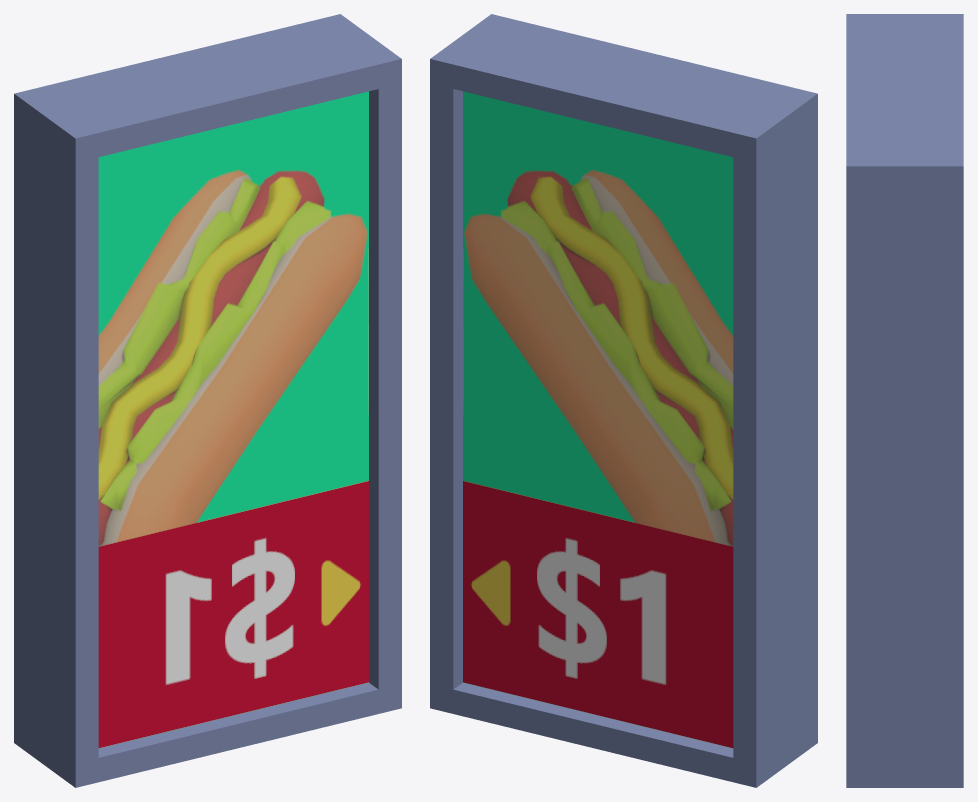
The model's file is adboard_Hotdog_geo.fbx.
3 renders of one model, left to right at view 1: azimuth 30°, elevation 25°; view 2: azimuth 150°, elevation 25°; view 3: azimuth 270°, elevation 25°, orthographic. The views are drawn at different scales.
Visible parts, largest first — view 1: adboard_Hotdog_geo; view 2: adboard_Hotdog_geo; view 3: adboard_Hotdog_geo.
Boxes of the visible parts, x1=… form: adboard_Hotdog_geo: x1=14, y1=14, x2=401, y2=787; adboard_Hotdog_geo: x1=430, y1=14, x2=817, y2=787; adboard_Hotdog_geo: x1=846, y1=14, x2=963, y2=787.
Size of the model in its own units: 0.7668 by 0.2497 by 1.46.
